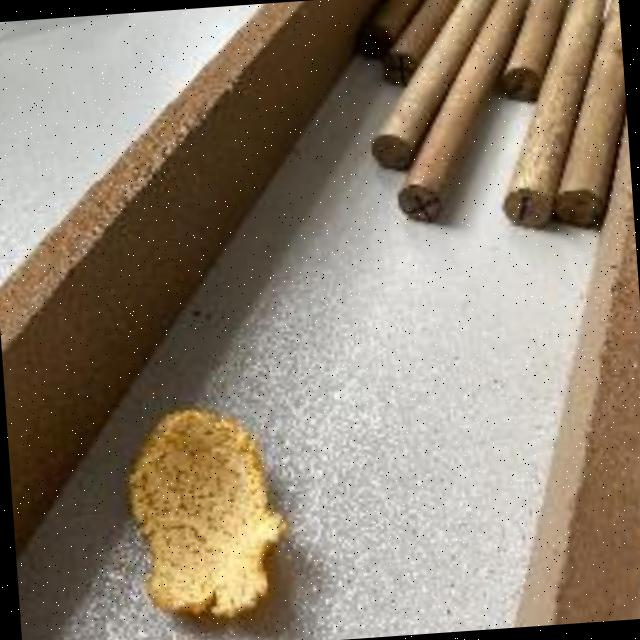orange-peel: (118, 398, 294, 628)
